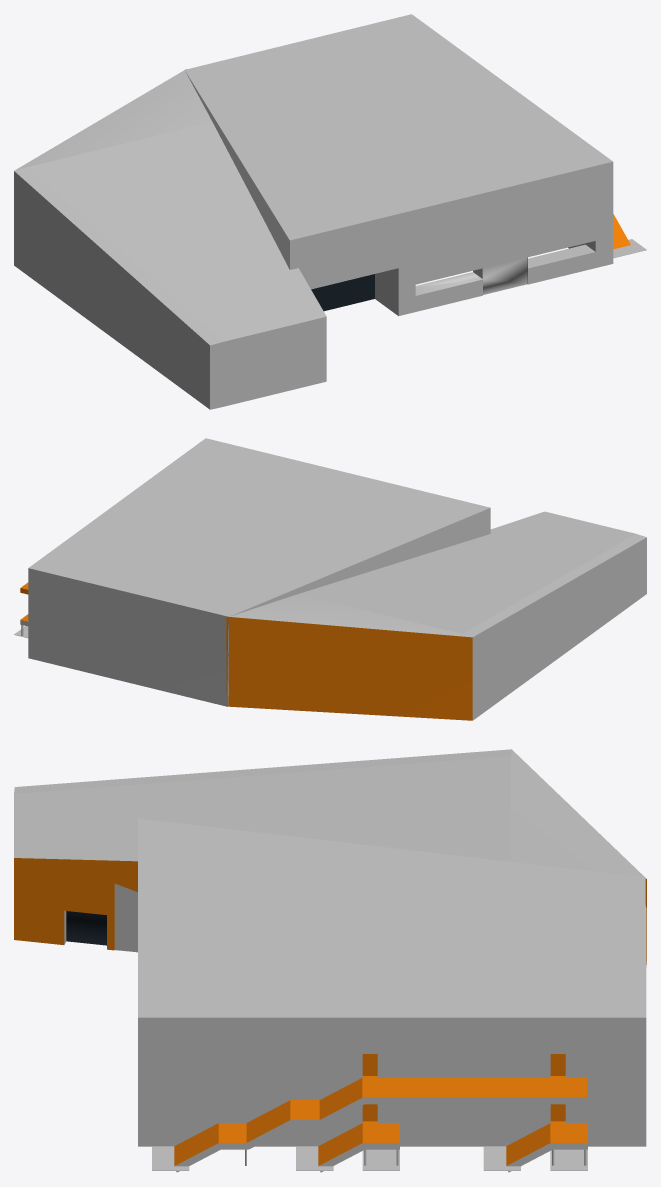
Rendered from Alleta_Jacobson_Hall.fbx.
3 views of the same model, one above another, from view 1: azimuth 30°, elevation 25°; view 2: azimuth 150°, elevation 25°; view 3: azimuth 270°, elevation 25° (orthographic). The views are drawn at different scales.
Visible parts, largest first — view 1: Main building; view 2: Main building; view 3: Main building, Single staircase.
Part boxes in pixels (<box>): Main building: <box>14,14,646,409</box>; Main building: <box>20,438,646,720</box>; Main building: <box>14,749,646,1172</box>; Single staircase: <box>483,1122,587,1172</box>.
Size of the model in its own units: 188 by 39.16 by 166.
